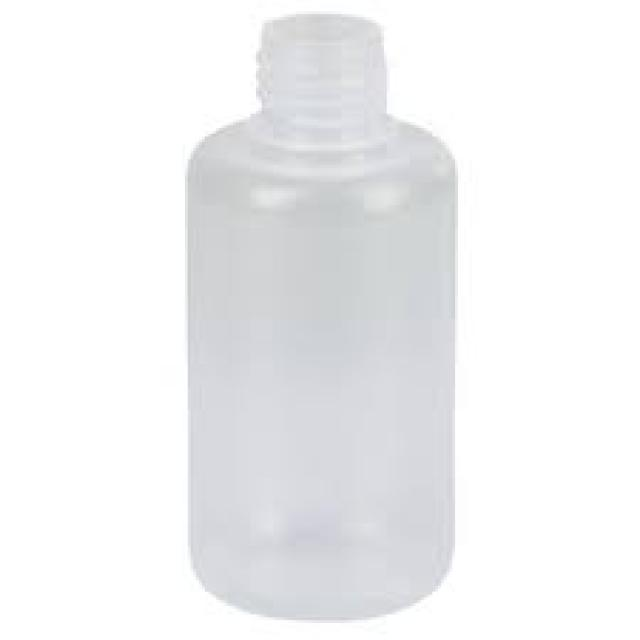plastic: (182, 12, 458, 618)
